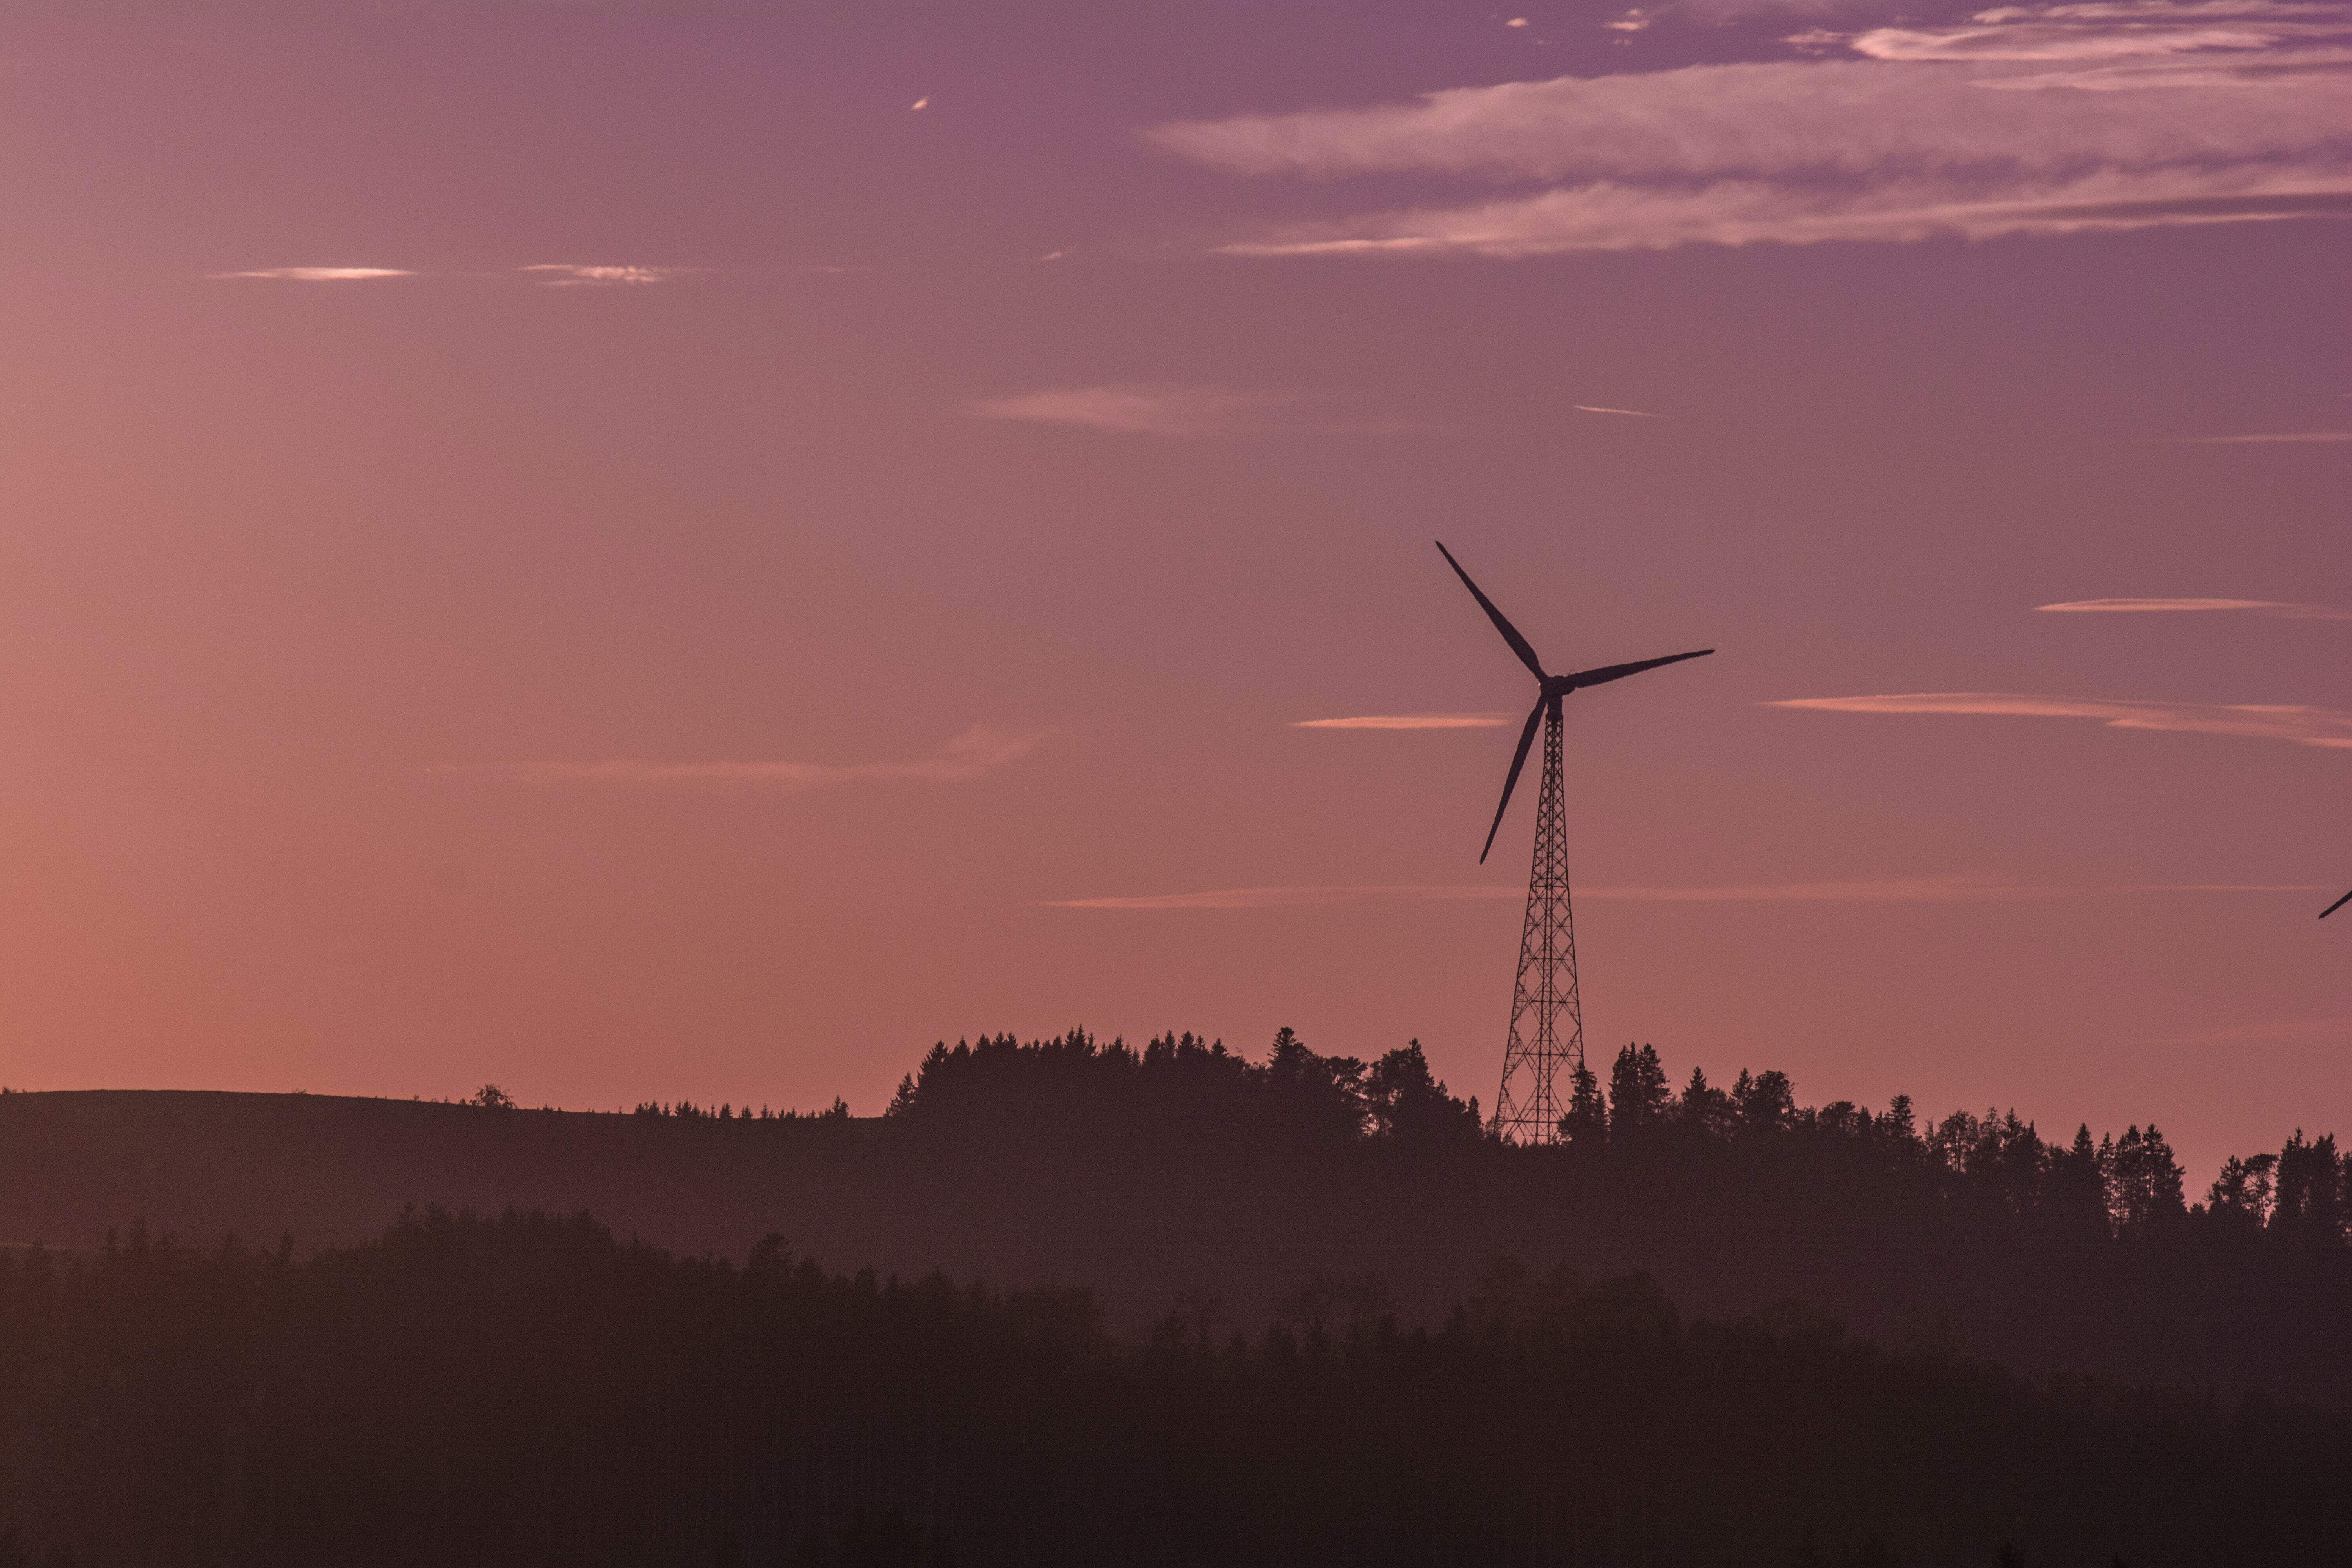working: (1416, 506, 1727, 1039)
